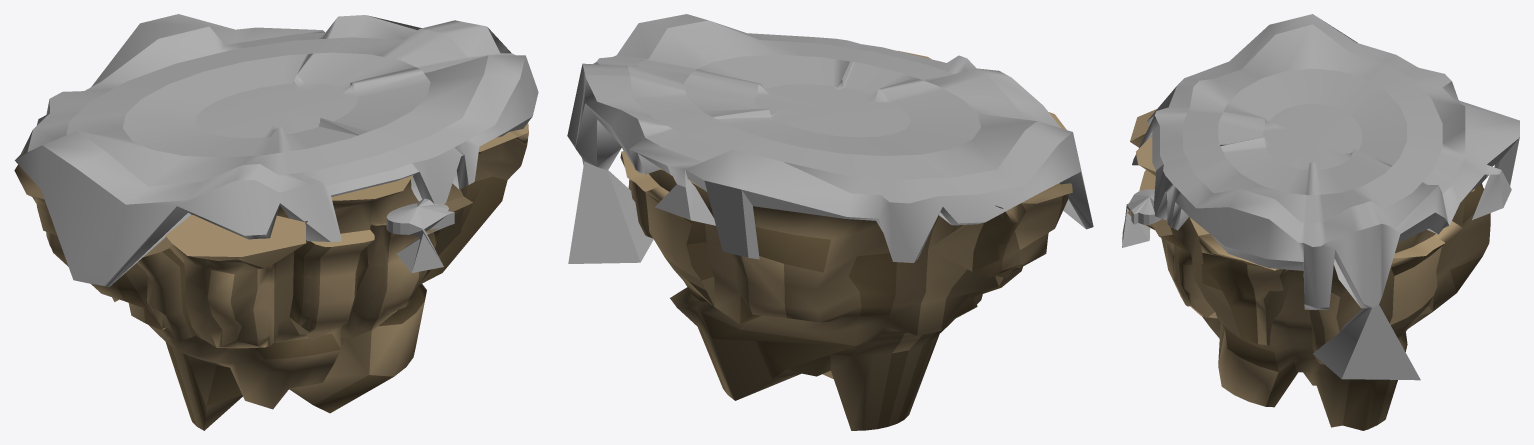
File: ISLAND BASE.fbx
3 views of the same model, side by side, from view 1: azimuth 30°, elevation 25°; view 2: azimuth 150°, elevation 25°; view 3: azimuth 270°, elevation 25° (orthographic). The views are drawn at different scales.
Visible parts, largest first — view 1: pSphere1, pCylinder1, pCylinder2; view 2: pSphere1, pCylinder1; view 3: pSphere1, pCylinder1, pCylinder2.
Part boxes in pixels (x1,y1,x2,y2): pSphere1: [15, 14, 538, 287]; pCylinder1: [14, 122, 528, 430]; pCylinder2: [386, 198, 454, 272]; pSphere1: [567, 14, 1093, 263]; pCylinder1: [620, 51, 1072, 430]; pSphere1: [1132, 14, 1519, 380]; pCylinder1: [1127, 109, 1490, 430]; pCylinder2: [1122, 189, 1161, 247].
Bounding box in the file's own units: 10.4 × 6.57 × 8.05.
